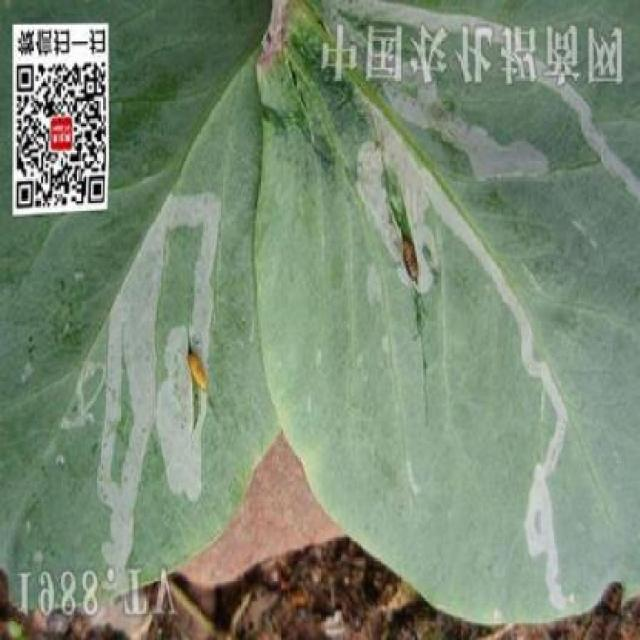whorl-maggot: (183, 339, 214, 406), (394, 227, 428, 288)
